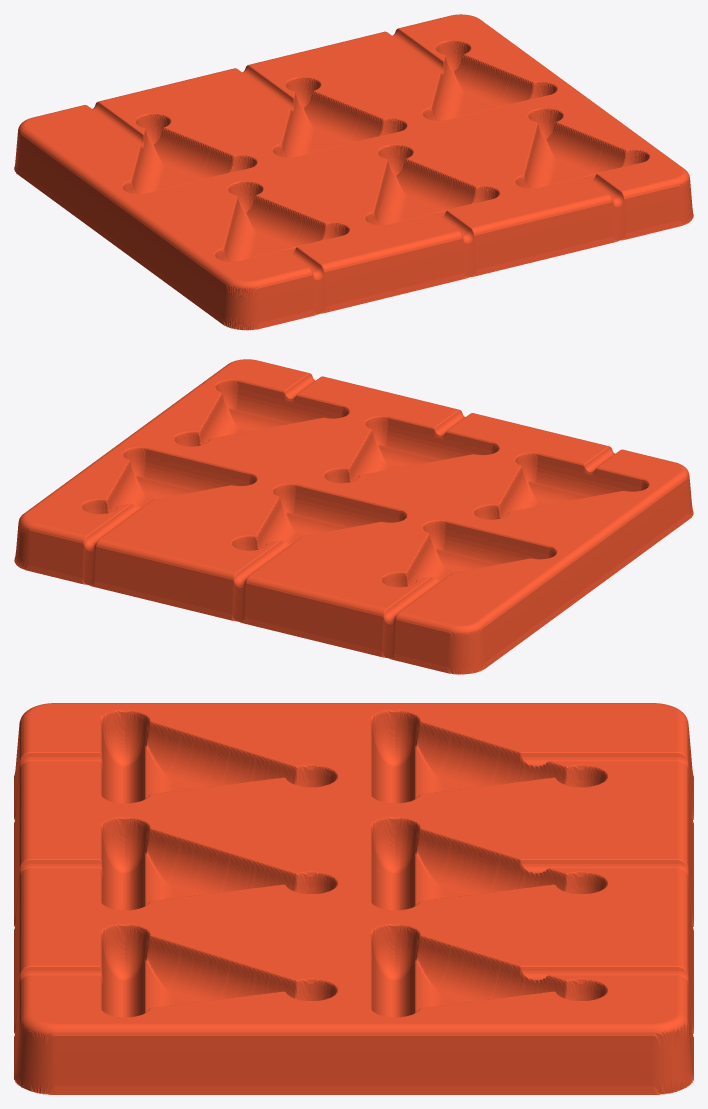
The model's file is mold.glb.
3 renders of one model, top to bottom at view 1: azimuth 30°, elevation 25°; view 2: azimuth 150°, elevation 25°; view 3: azimuth 270°, elevation 25°, orthographic. The views are drawn at different scales.
Visible parts, largest first — view 1: geometry_0; view 2: geometry_0; view 3: geometry_0.
Part boxes in pixels (x1,y1,x2,y2): geometry_0: (14, 14, 693, 330); geometry_0: (14, 359, 693, 674); geometry_0: (14, 703, 693, 1094).
Bounding box in the file's own units: 0.1714 × 0.0155 × 0.1477.
